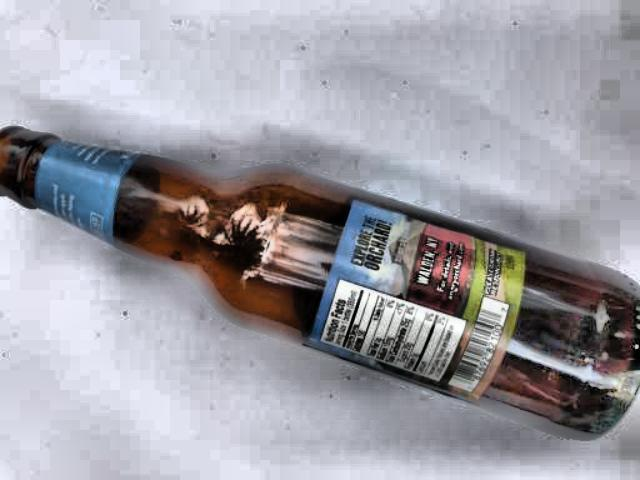Bottles: (0, 99, 640, 455)
